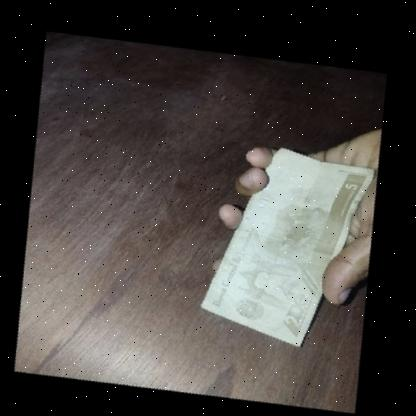five-back-vef: (173, 121, 407, 365)
